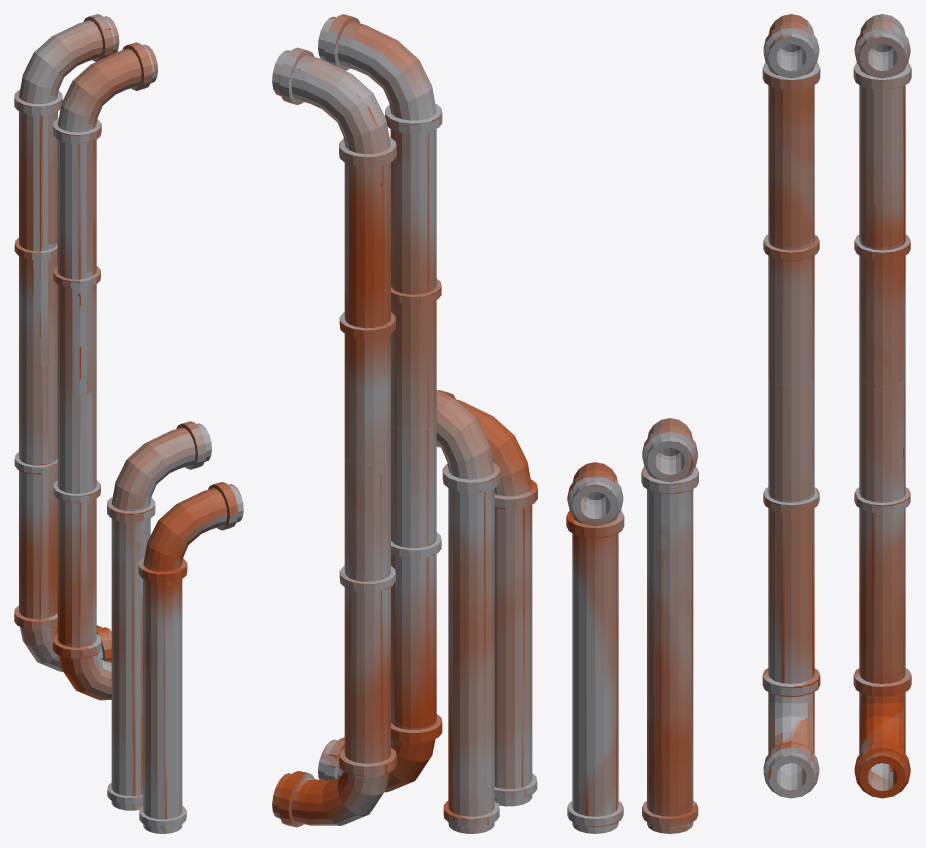
File: Pipes (1).fbx
The picture shows the model from 3 angles, left to right: view 1: azimuth 30°, elevation 25°; view 2: azimuth 150°, elevation 25°; view 3: azimuth 270°, elevation 25°; orthographic projection. The views are drawn at different scales.
Visible parts, largest first — view 1: Cylinder.005; view 2: Cylinder.005; view 3: Cylinder.005.
Boxes of the visible parts, x1,y1,x2,y2 form: Cylinder.005: (14,14,243,833); Cylinder.005: (272,14,537,833); Cylinder.005: (566,14,911,833).
Bounding box in the file's own units: 559 × 3954 × 1487.
1 material, 1 textured.
